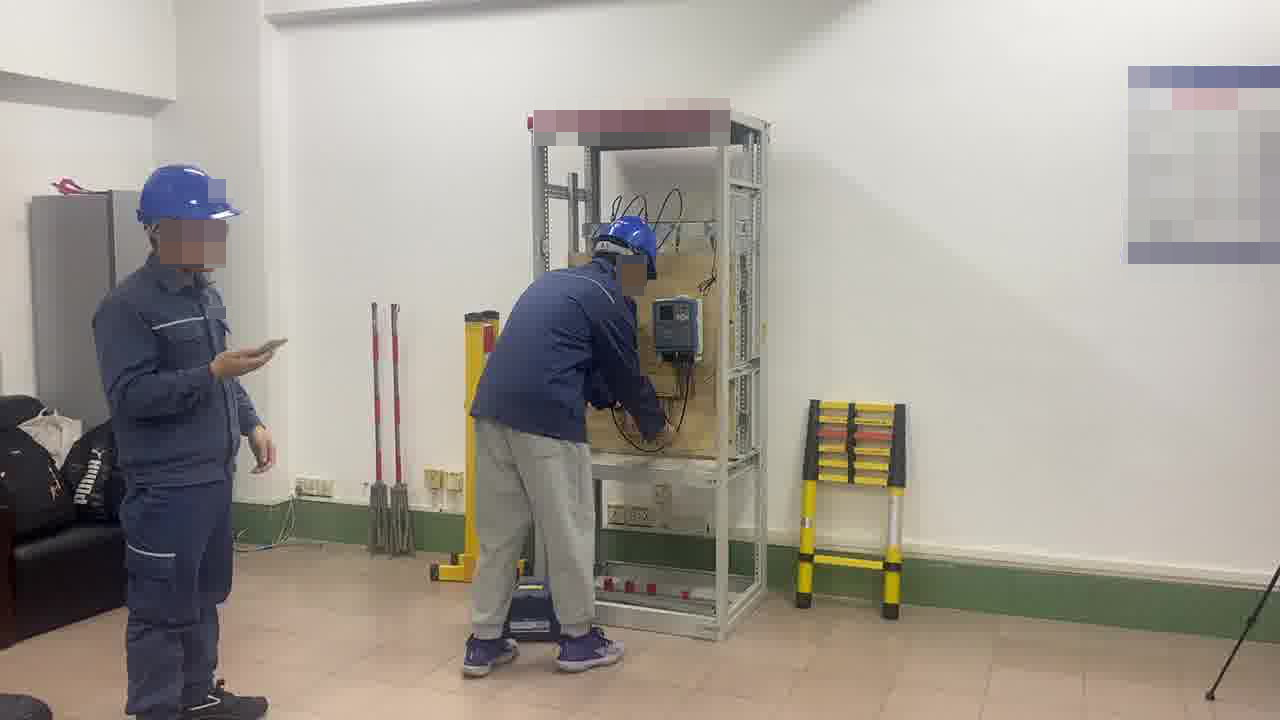downcloth: (473, 426, 608, 647)
downsuit: (127, 492, 240, 714)
halt: (135, 164, 241, 279), (593, 215, 663, 289)
hand: (214, 344, 270, 375), (248, 427, 278, 474)
inear: (143, 219, 187, 262)
noear: (618, 255, 646, 284)
person: (92, 164, 278, 714), (463, 211, 681, 669)
upsuit: (97, 264, 263, 487), (476, 261, 654, 422)
